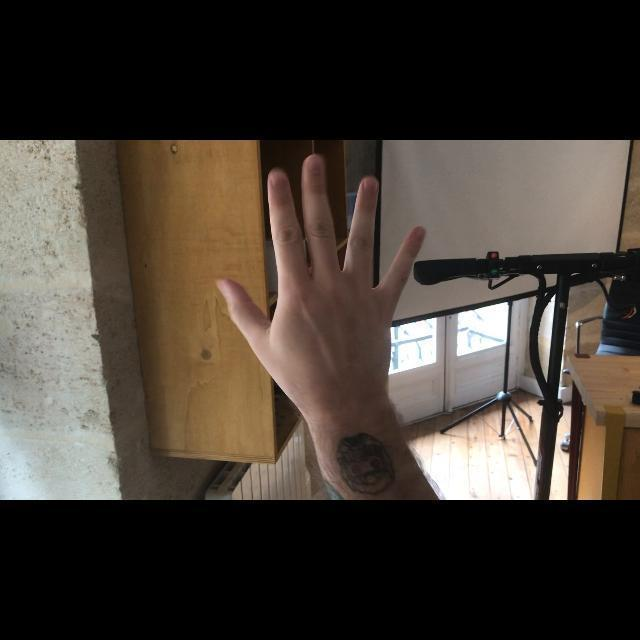bare_hand: (213, 154, 428, 398)
